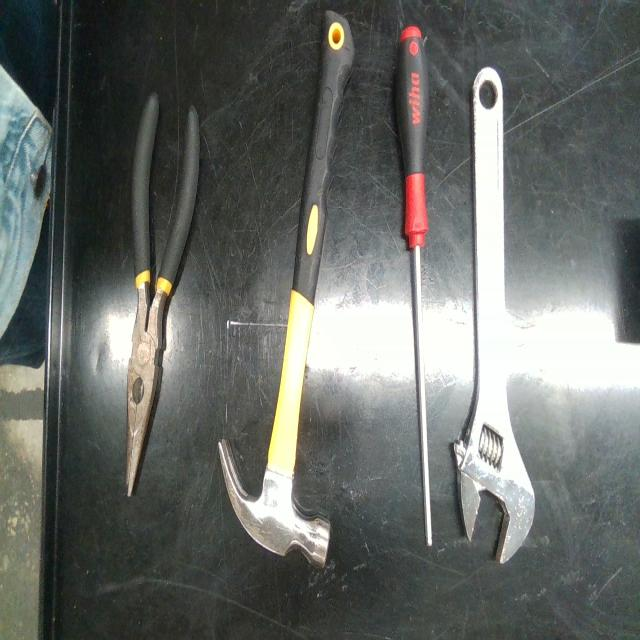Screwdriver: (396, 27, 432, 547)
